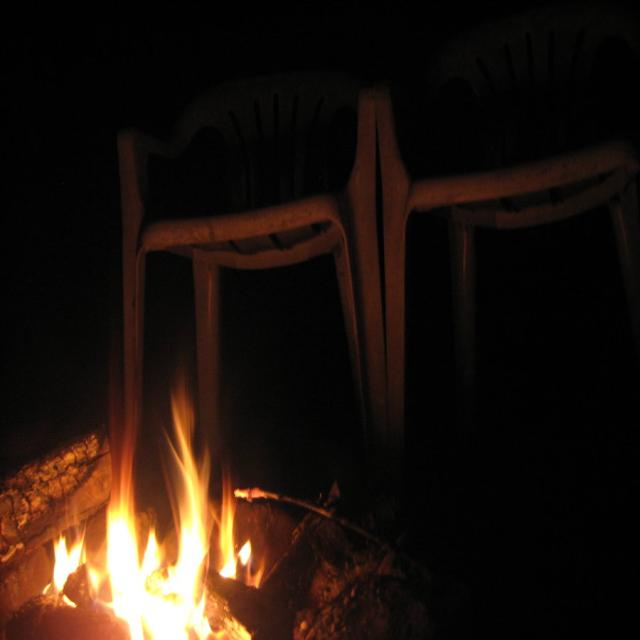chair: (108, 14, 399, 484), (395, 23, 640, 431)
